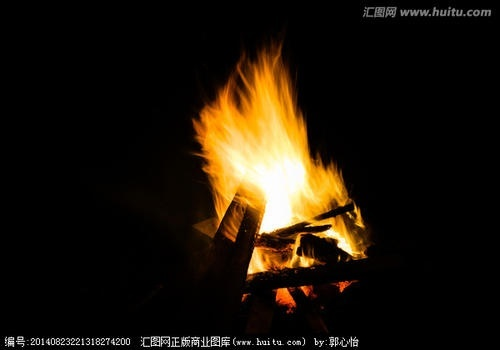fire: (192, 31, 376, 279)
